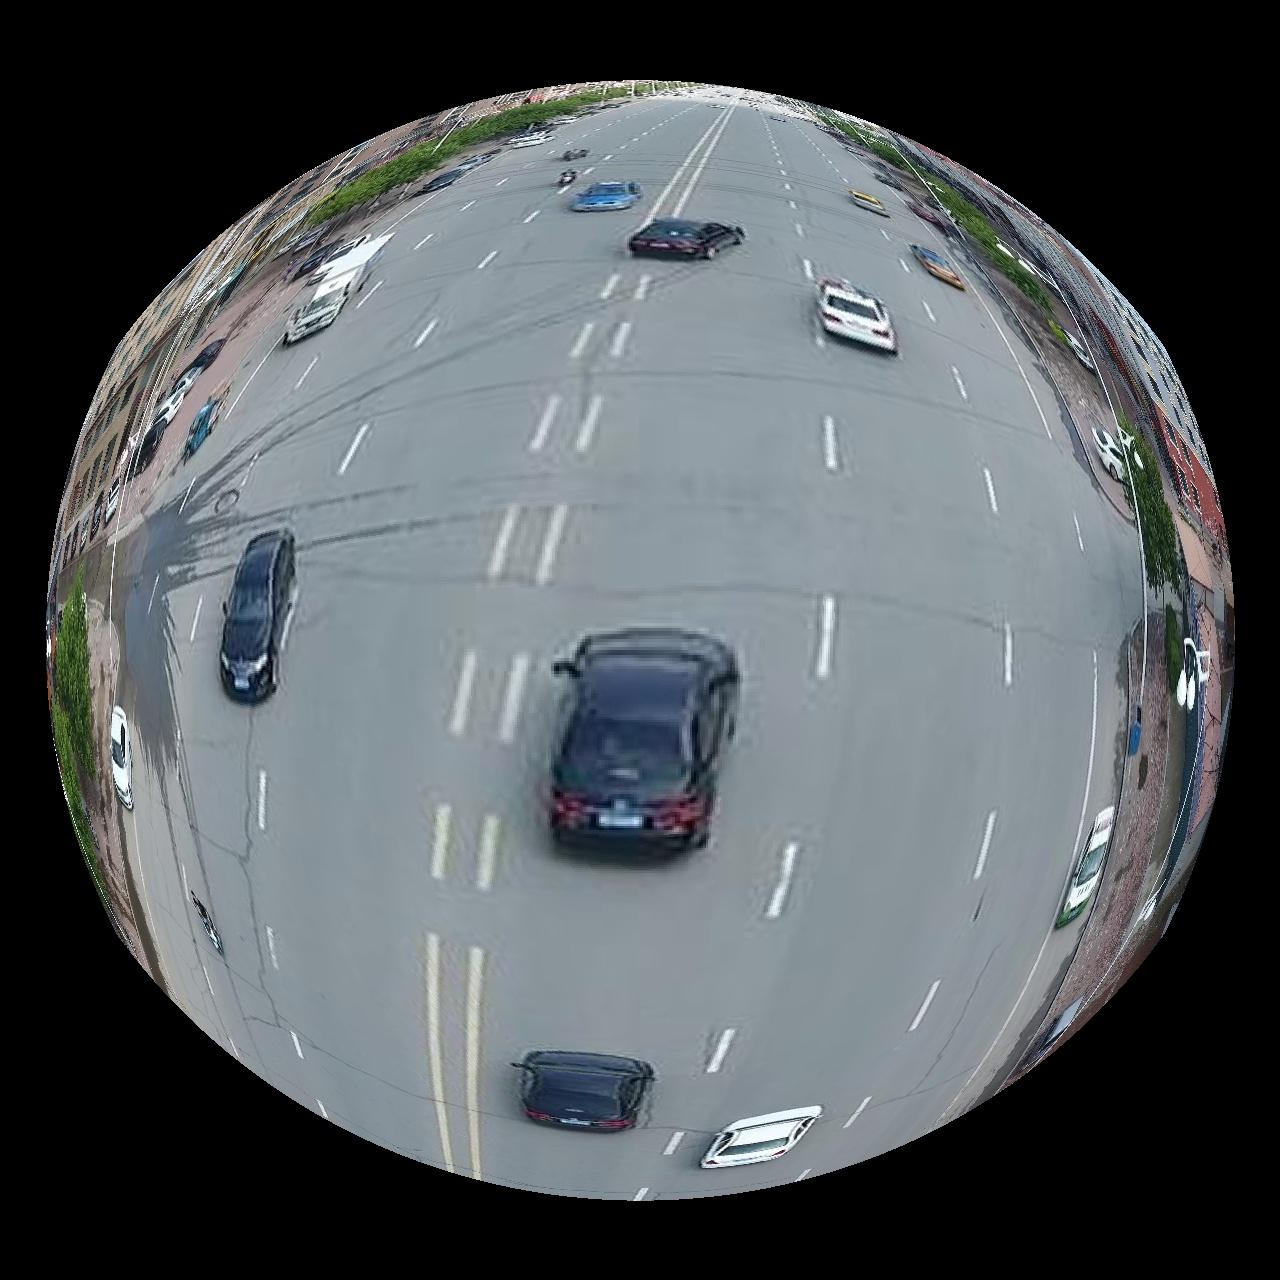cars: (551, 628, 741, 851), (219, 530, 297, 703), (513, 1051, 655, 1133), (701, 1107, 824, 1171), (1058, 806, 1117, 930), (818, 275, 899, 352), (629, 217, 745, 258), (912, 245, 968, 290), (108, 706, 131, 810), (571, 181, 642, 211), (1094, 427, 1126, 483), (850, 190, 890, 217)
trees: (49, 564, 102, 885), (1121, 427, 1189, 594)
